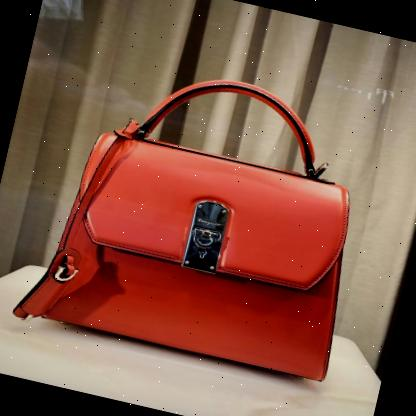person: (13, 37, 400, 399)
